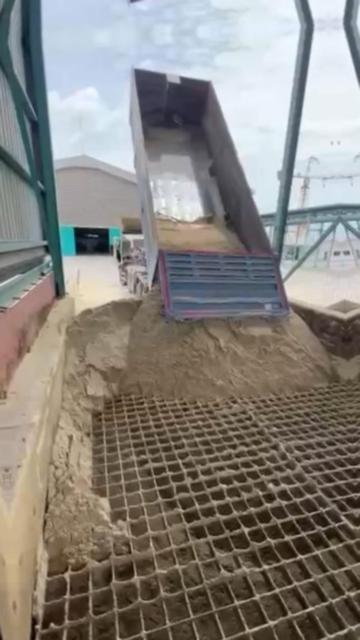sand: (46, 291, 333, 570), (156, 217, 244, 252)
